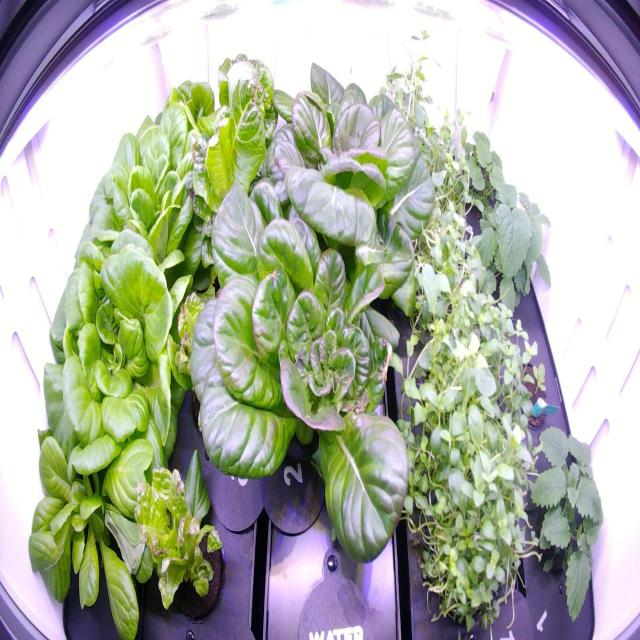Ready: (175, 173, 422, 572), (236, 45, 447, 326), (12, 376, 175, 638), (30, 216, 182, 467), (68, 109, 200, 308), (116, 76, 218, 213)
germination: (504, 344, 556, 437)
young: (126, 433, 237, 628)
